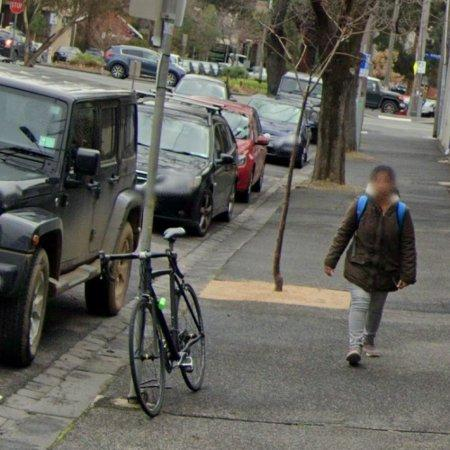bicycles: (101, 228, 205, 418)
